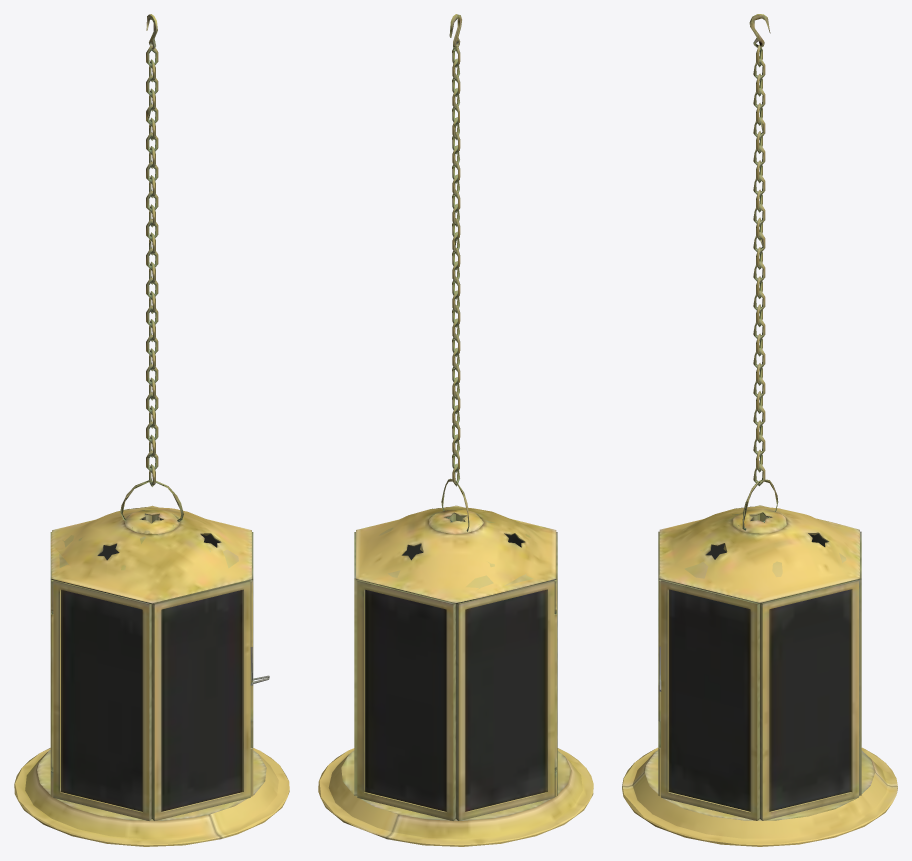
File: diya.glb
3 views of the same model, side by side, from view 1: azimuth 30°, elevation 25°; view 2: azimuth 150°, elevation 25°; view 3: azimuth 270°, elevation 25° (orthographic).
Parts seen in each view (by area): view 1: brass_diya_lantern, brass_diya_lantern_connection; view 2: brass_diya_lantern, brass_diya_lantern_connection; view 3: brass_diya_lantern, brass_diya_lantern_connection.
Boxes of the visible parts, bbox=[...] form: brass_diya_lantern: bbox=[14, 505, 289, 846]; brass_diya_lantern_connection: bbox=[120, 14, 183, 521]; brass_diya_lantern: bbox=[318, 505, 593, 846]; brass_diya_lantern_connection: bbox=[441, 14, 469, 531]; brass_diya_lantern: bbox=[622, 505, 897, 846]; brass_diya_lantern_connection: bbox=[742, 14, 778, 530].
Size of the model in its own units: 0.123 by 0.3807 by 0.123.
Materials: 3 (3 with a texture image).
